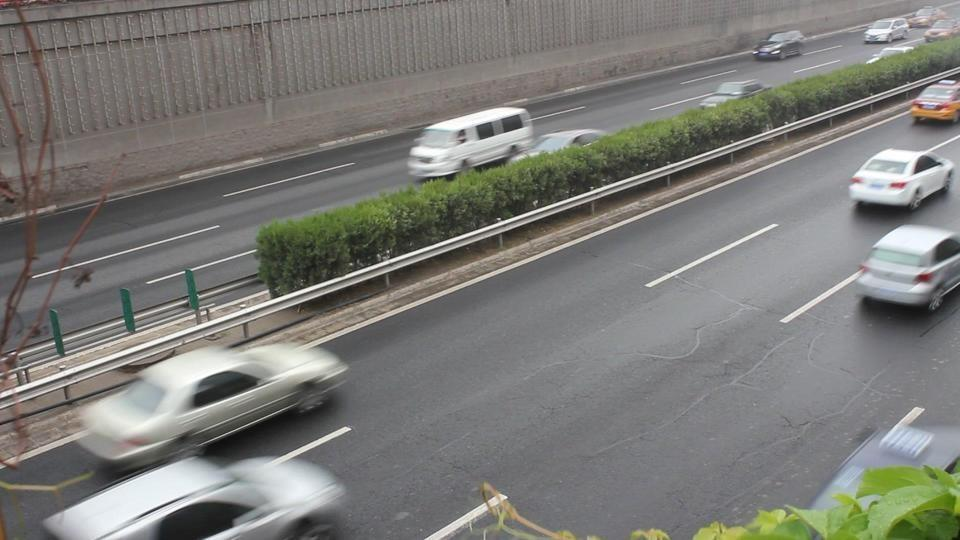car: (75, 340, 353, 478), (41, 451, 351, 539), (408, 104, 535, 182), (853, 222, 960, 313), (848, 147, 955, 211), (910, 76, 960, 125), (517, 129, 606, 155), (698, 79, 768, 108), (752, 29, 805, 61), (863, 18, 908, 45)
